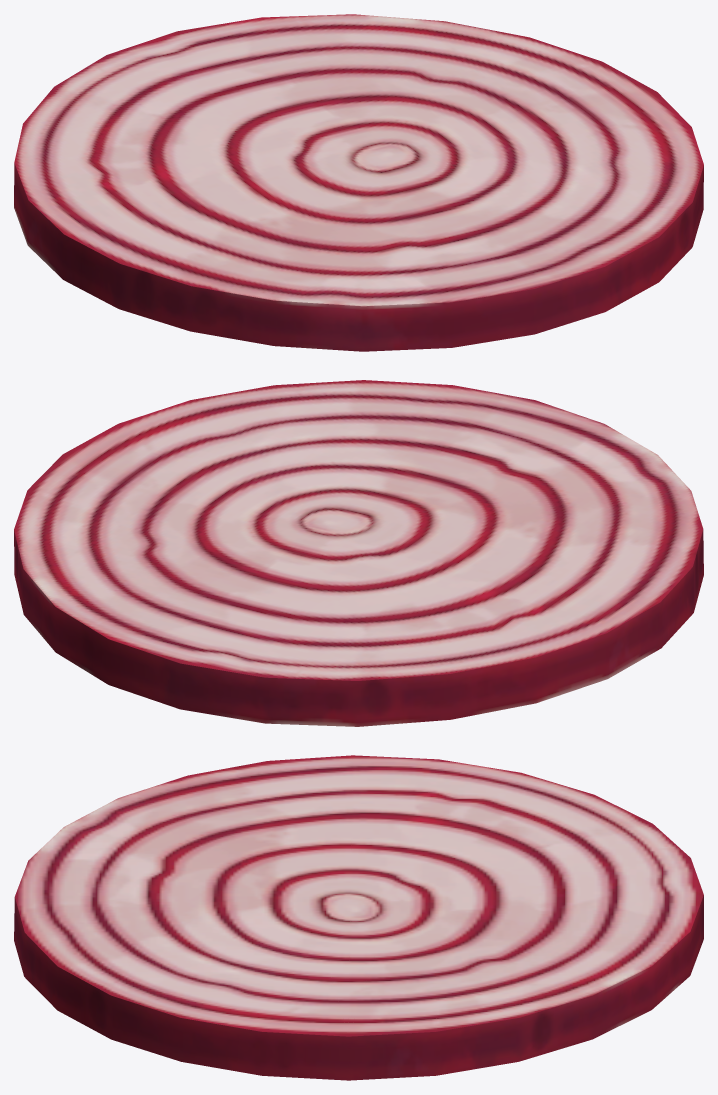
The model's file is SM_OnionBSlice.glb.
The picture shows the model from 3 angles, top to bottom: view 1: azimuth 30°, elevation 25°; view 2: azimuth 150°, elevation 25°; view 3: azimuth 270°, elevation 25°; orthographic projection. The views are drawn at different scales.
Parts seen in each view (by area): view 1: SM_OnionBSlice; view 2: SM_OnionBSlice; view 3: SM_OnionBSlice.
Part boxes in pixels (bbox=[...]): SM_OnionBSlice: bbox=[14, 14, 703, 351]; SM_OnionBSlice: bbox=[14, 380, 703, 726]; SM_OnionBSlice: bbox=[14, 755, 703, 1080].
Bounding box in the file's own units: 0.0983 × 0.00718 × 0.1018.
Materials: 1 (1 with a texture image).
